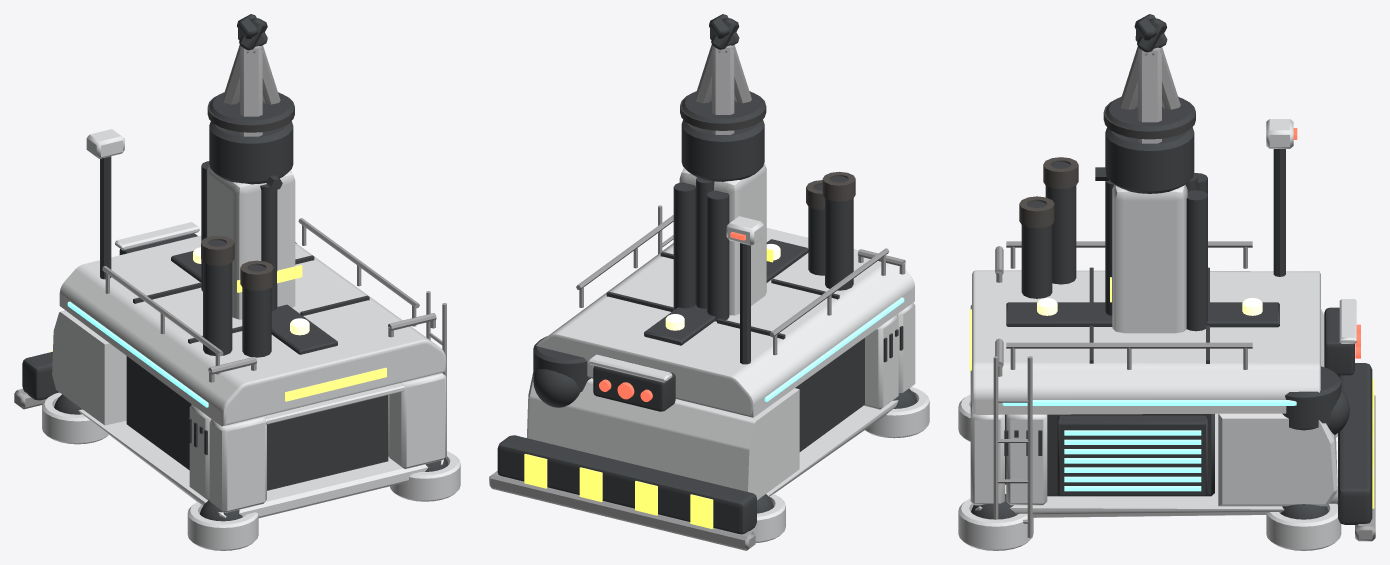
Rendered from heavy.glb.
The picture shows the model from 3 angles, left to right: view 1: azimuth 30°, elevation 25°; view 2: azimuth 150°, elevation 25°; view 3: azimuth 270°, elevation 25°; orthographic projection. The views are drawn at different scales.
Visible parts, largest first — view 1: hull, arm_fore, arm_upper, shin, thigh, eye; view 2: hull, arm_upper, arm_fore, eye, shin; view 3: hull, arm_upper, vent, arm_fore, eye, shin, thigh.
Boxes of the visible parts, x1,y1,x2,y2 form: hull: (14, 129, 460, 550); arm_fore: (209, 14, 293, 184); arm_upper: (201, 161, 302, 319); shin: (207, 92, 294, 132); thigh: (260, 175, 282, 311); eye: (115, 222, 199, 254); hull: (489, 171, 929, 550); arm_upper: (673, 163, 773, 321); arm_fore: (681, 14, 764, 308); eye: (588, 354, 675, 411); shin: (680, 91, 766, 130); hull: (958, 119, 1375, 550); arm_upper: (1110, 173, 1207, 333); vent: (1057, 415, 1207, 496); arm_fore: (1105, 14, 1197, 193); eye: (1324, 299, 1360, 375); shin: (1103, 96, 1195, 139); thigh: (1095, 167, 1114, 315).
Size of what is drawn, in the model's own units: 0.94 by 1.52 by 1.22.
